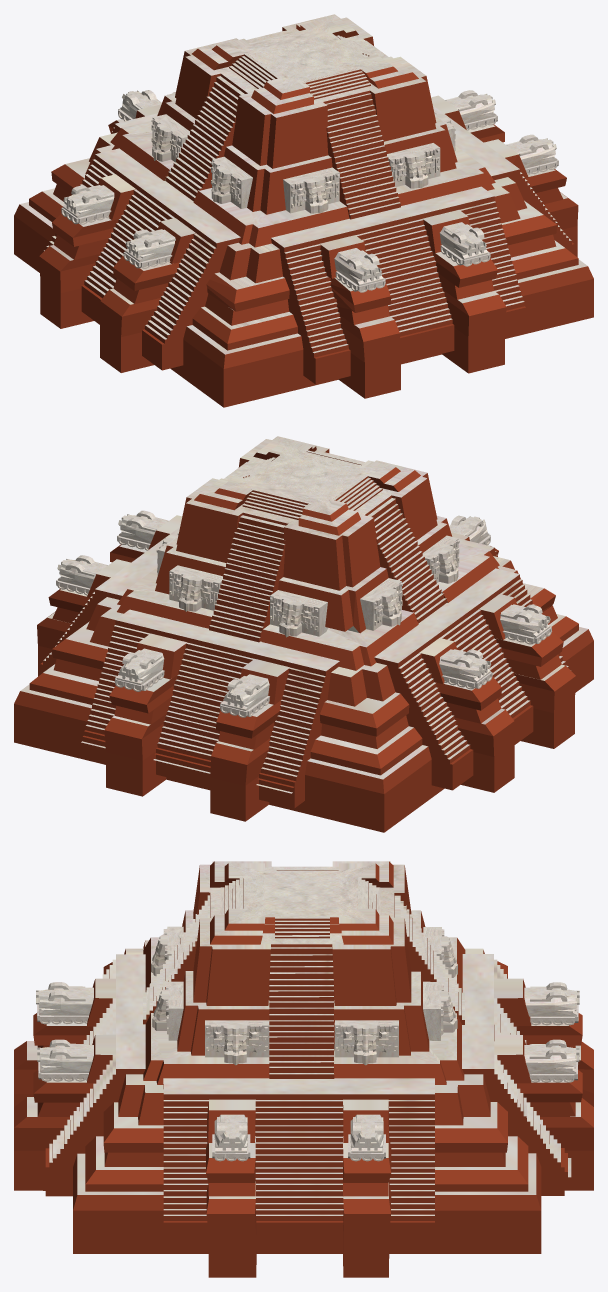
File: observatorio_1.dae
3 views of the same model, one above another, from view 1: azimuth 30°, elevation 25°; view 2: azimuth 150°, elevation 25°; view 3: azimuth 270°, elevation 25° (orthographic). The views are drawn at different scales.
Parts seen in each view (by area): view 1: obser_1; view 2: obser_1; view 3: obser_1.
Boxes of the visible parts, box(x1,y1,x2,y2) form: obser_1: box(14, 14, 593, 407); obser_1: box(14, 436, 593, 832); obser_1: box(14, 861, 593, 1277).
Bounding box in the file's own units: 36.09 × 35.57 × 17.53.
